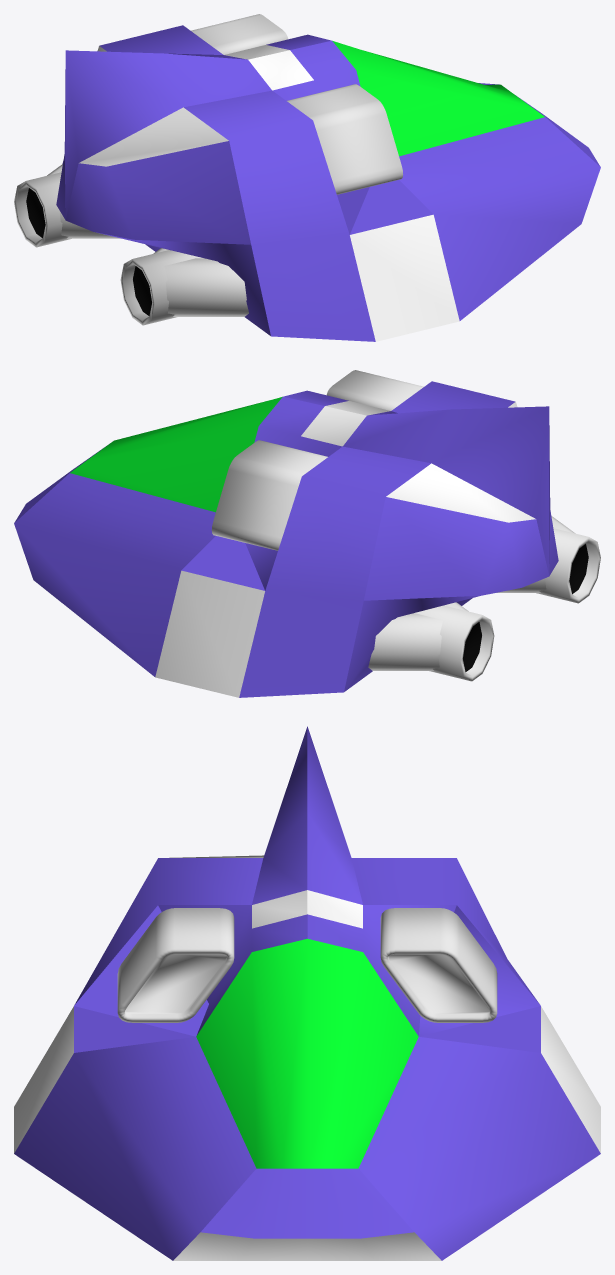
The model's file is ray.glb.
3 renders of one model, top to bottom at view 1: azimuth 30°, elevation 25°; view 2: azimuth 150°, elevation 25°; view 3: azimuth 270°, elevation 25°, orthographic. The views are drawn at different scales.
Visible parts, largest first — view 1: ShipBody, Cube.001, Pipe.003, Thruster.001, Thruster, Cube, Pipe.001; view 2: ShipBody, Cube, Thruster, Pipe, Thruster.001, Cube.001; view 3: ShipBody, Cube, Cube.001.
Boxes of the visible parts, x1,y1,x2,y2 form: ShipBody: (56,25,600,341); Cube.001: (287,84,403,194); Pipe.003: (164,258,248,316); Thruster.001: (120,250,203,325); Thruster: (14,172,71,247); Cube: (191,14,288,54); Pipe.001: (58,187,120,238); ShipBody: (14,381,558,697); Cube: (211,440,327,550); Thruster: (414,605,494,681); Pipe: (368,613,442,670); Thruster.001: (536,528,600,603); Cube.001: (326,370,423,410); ShipBody: (14,726,600,1260); Cube: (380,908,497,1022); Cube.001: (117,908,234,1022).
Bounding box in the file's own units: 5.96 × 2.76 × 5.27.
